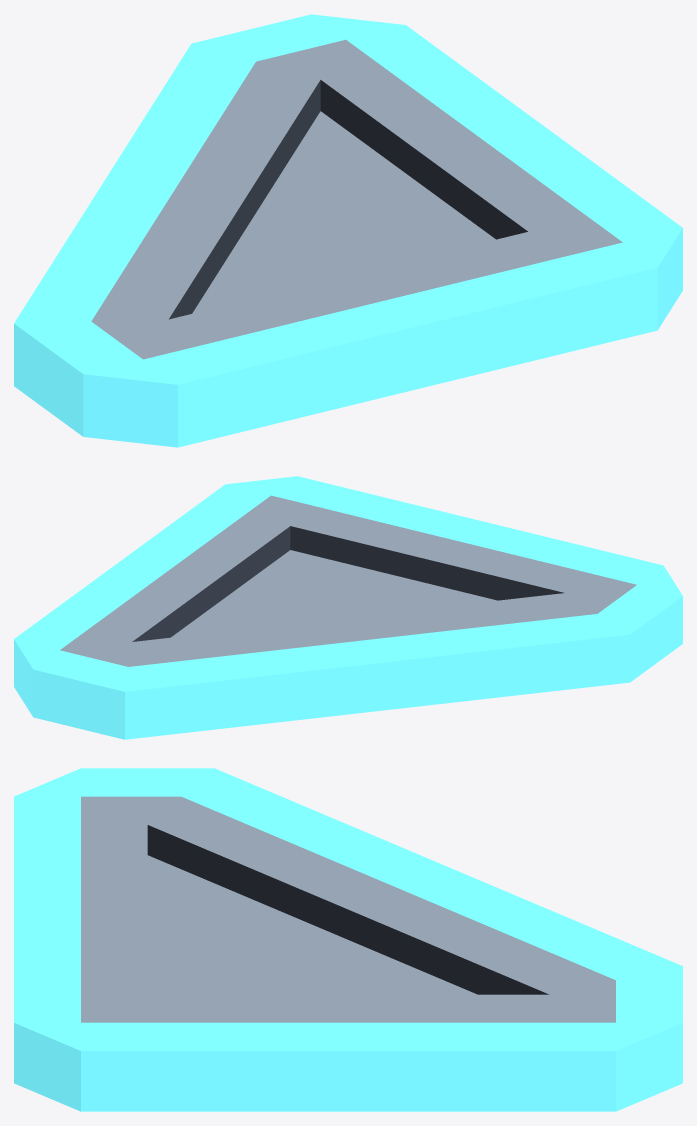
The model's file is platform_smallDiagonal.glb.
3 renders of one model, top to bottom at view 1: azimuth 30°, elevation 25°; view 2: azimuth 150°, elevation 25°; view 3: azimuth 270°, elevation 25°, orthographic. The views are drawn at different scales.
Parts seen in each view (by area): view 1: platform_smallDiagonal; view 2: platform_smallDiagonal; view 3: platform_smallDiagonal.
Part boxes in pixels (x1,y1,x2,y2): platform_smallDiagonal: (14,14,682,447); platform_smallDiagonal: (14,476,682,739); platform_smallDiagonal: (14,768,682,1111).
Size of the model in its own units: 1 by 0.1 by 1.
